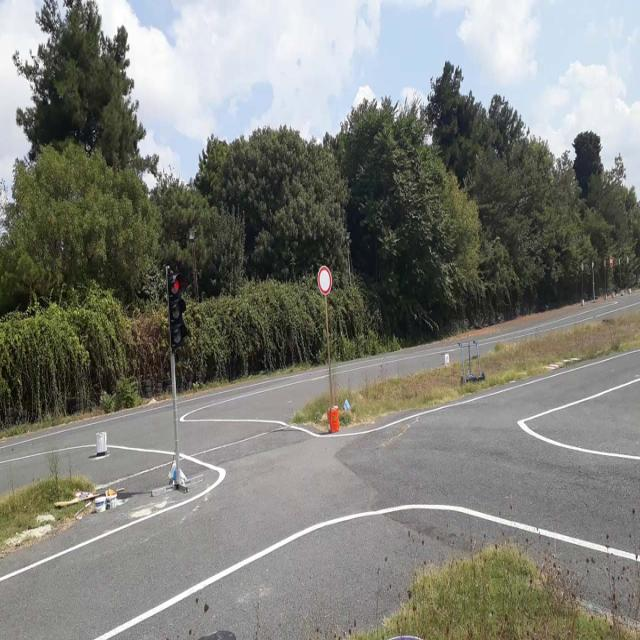kirmizi: (167, 274, 185, 344)
